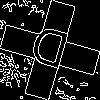D: (25, 25, 72, 79)
